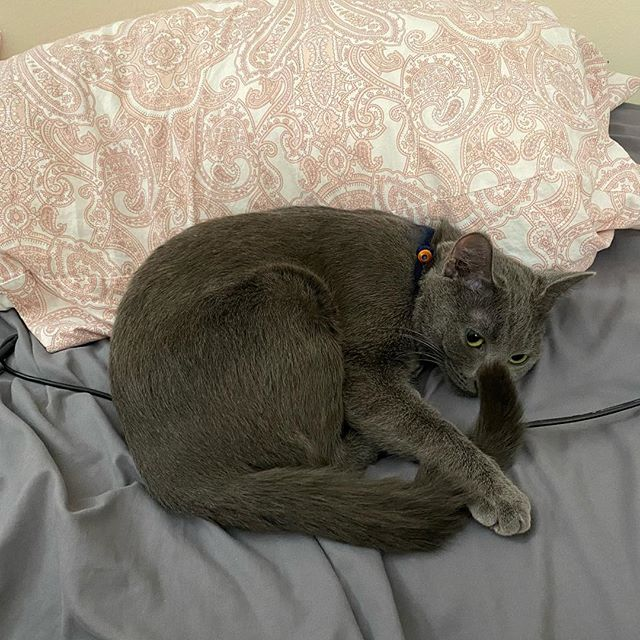cat: (406, 222, 589, 405)
